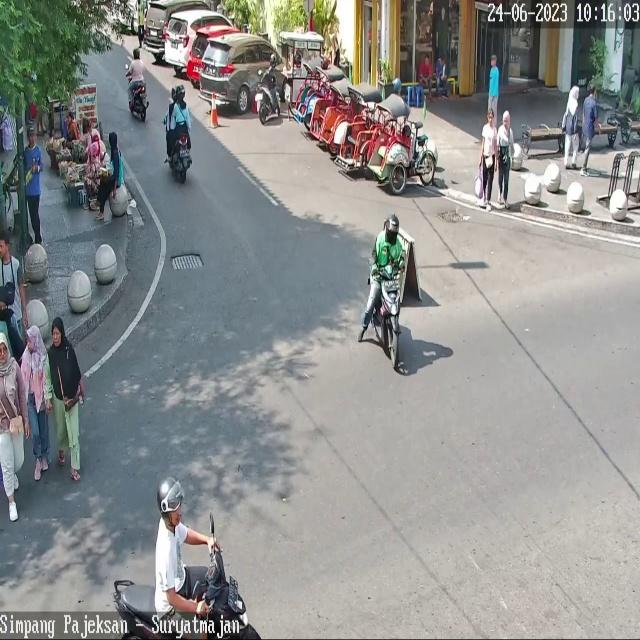bus: (111, 535, 262, 640), (370, 264, 401, 369), (162, 112, 193, 183), (126, 64, 150, 124)
motorcycle: (202, 34, 286, 113), (164, 9, 233, 67), (144, 0, 212, 54), (186, 24, 242, 82)
